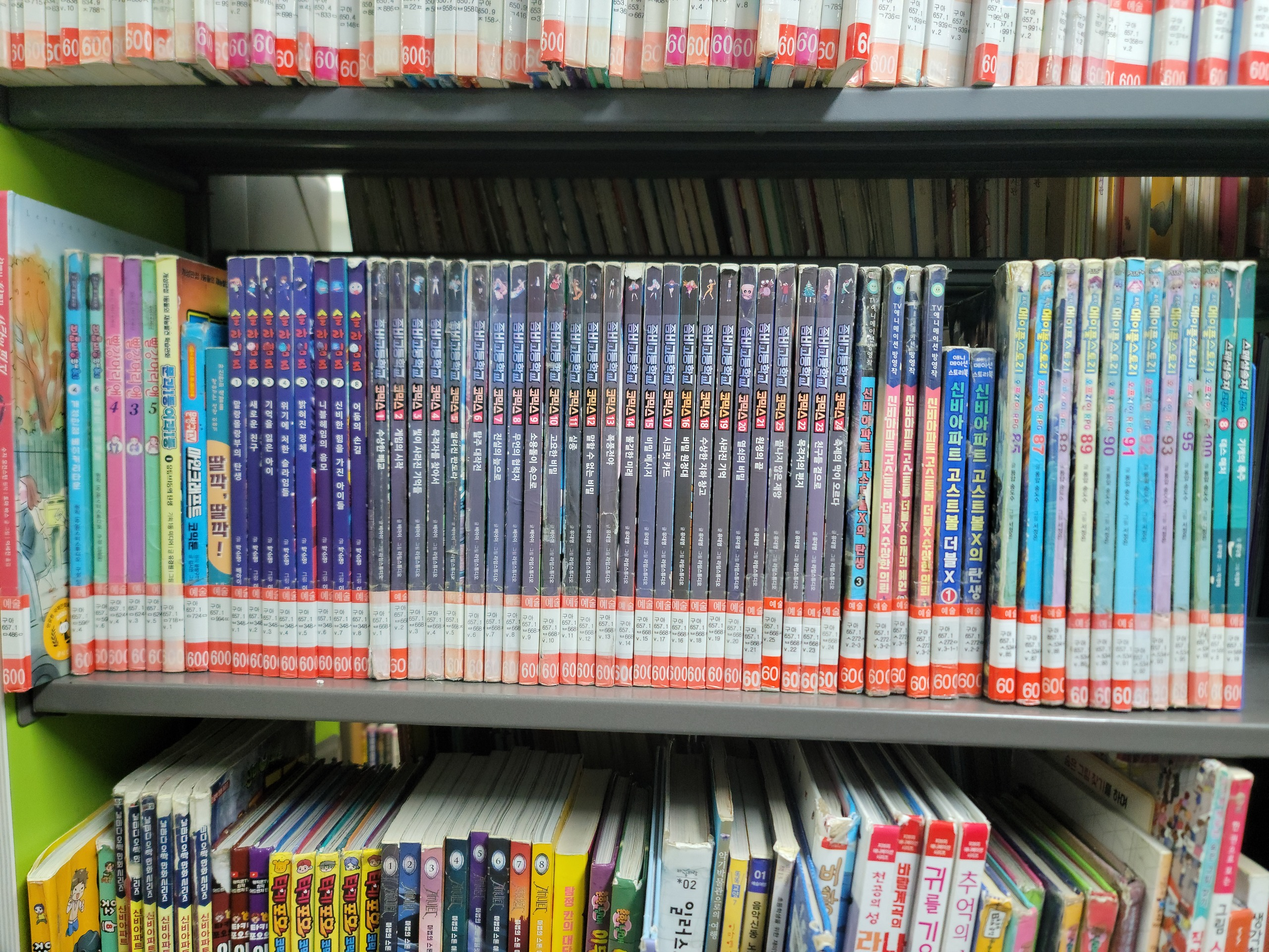book-spine: (839, 267, 881, 695), (1039, 261, 1079, 706), (1087, 250, 1125, 712), (1065, 260, 1103, 710), (992, 265, 1031, 699), (1148, 259, 1185, 713), (817, 268, 856, 696), (867, 273, 906, 697), (909, 267, 946, 701), (1018, 260, 1054, 706), (780, 266, 817, 695), (799, 268, 836, 696), (1129, 260, 1164, 709), (722, 262, 758, 692), (759, 262, 795, 692), (1110, 259, 1144, 713), (1167, 259, 1201, 712), (703, 261, 738, 690), (887, 268, 922, 697), (1222, 270, 1256, 709), (741, 265, 775, 692), (1206, 260, 1238, 711), (929, 349, 970, 698), (686, 259, 719, 691), (668, 260, 700, 690), (956, 349, 995, 699), (631, 262, 663, 686), (1190, 263, 1220, 707), (613, 261, 644, 687), (594, 258, 624, 687), (650, 267, 680, 690), (538, 261, 566, 682), (156, 254, 184, 671), (519, 261, 546, 683), (501, 263, 528, 681), (577, 258, 603, 688), (559, 262, 585, 686), (0, 193, 22, 692), (463, 262, 489, 680), (484, 263, 509, 680), (63, 254, 87, 675), (328, 258, 352, 679), (180, 320, 208, 673), (293, 259, 316, 678), (104, 257, 127, 670), (122, 258, 145, 670), (275, 269, 297, 677), (369, 257, 390, 682), (88, 254, 109, 671), (228, 256, 248, 675), (142, 257, 162, 672), (313, 265, 333, 678), (348, 265, 368, 678), (205, 346, 230, 671), (445, 256, 464, 682), (260, 258, 279, 678), (427, 260, 445, 682), (408, 261, 426, 680), (390, 263, 407, 678), (245, 258, 261, 675)
